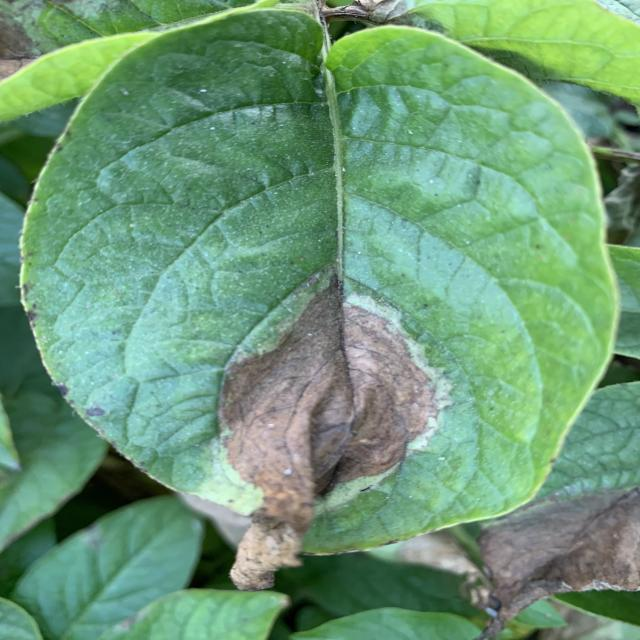lateblight: (218, 272, 440, 590)
